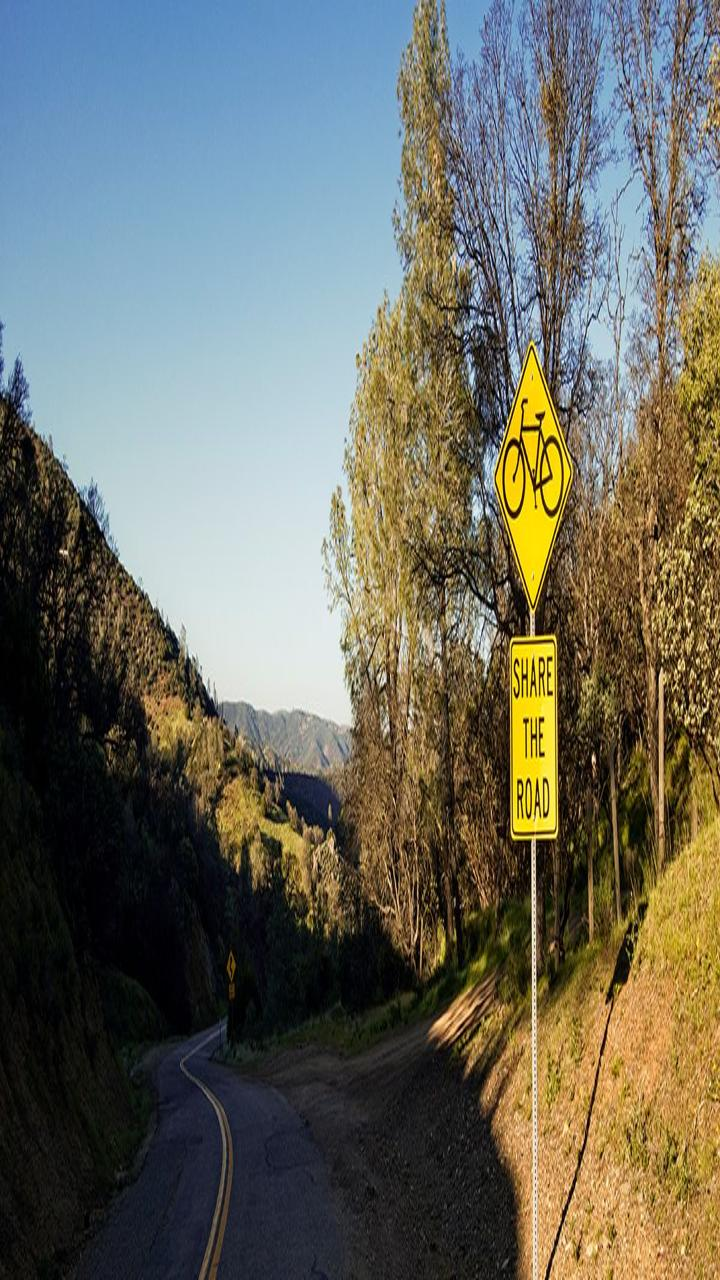Traffic sign: (468, 352, 590, 612), (491, 623, 618, 857)
